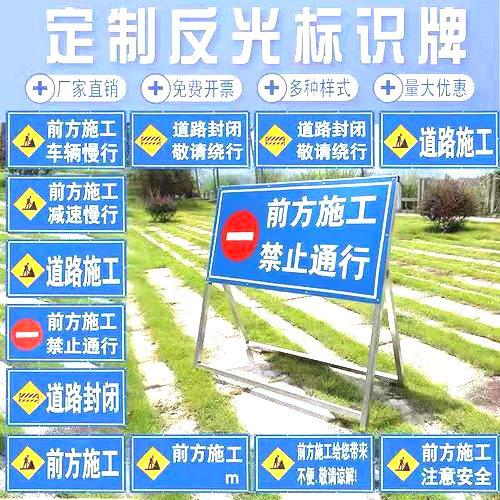sign: (208, 182, 394, 289), (131, 434, 248, 493), (381, 434, 498, 493), (7, 303, 123, 362), (8, 240, 125, 298), (7, 175, 125, 232), (5, 111, 125, 167), (6, 370, 125, 426), (257, 435, 373, 492), (8, 435, 125, 491), (257, 111, 372, 167), (382, 110, 498, 165), (133, 112, 247, 167)
